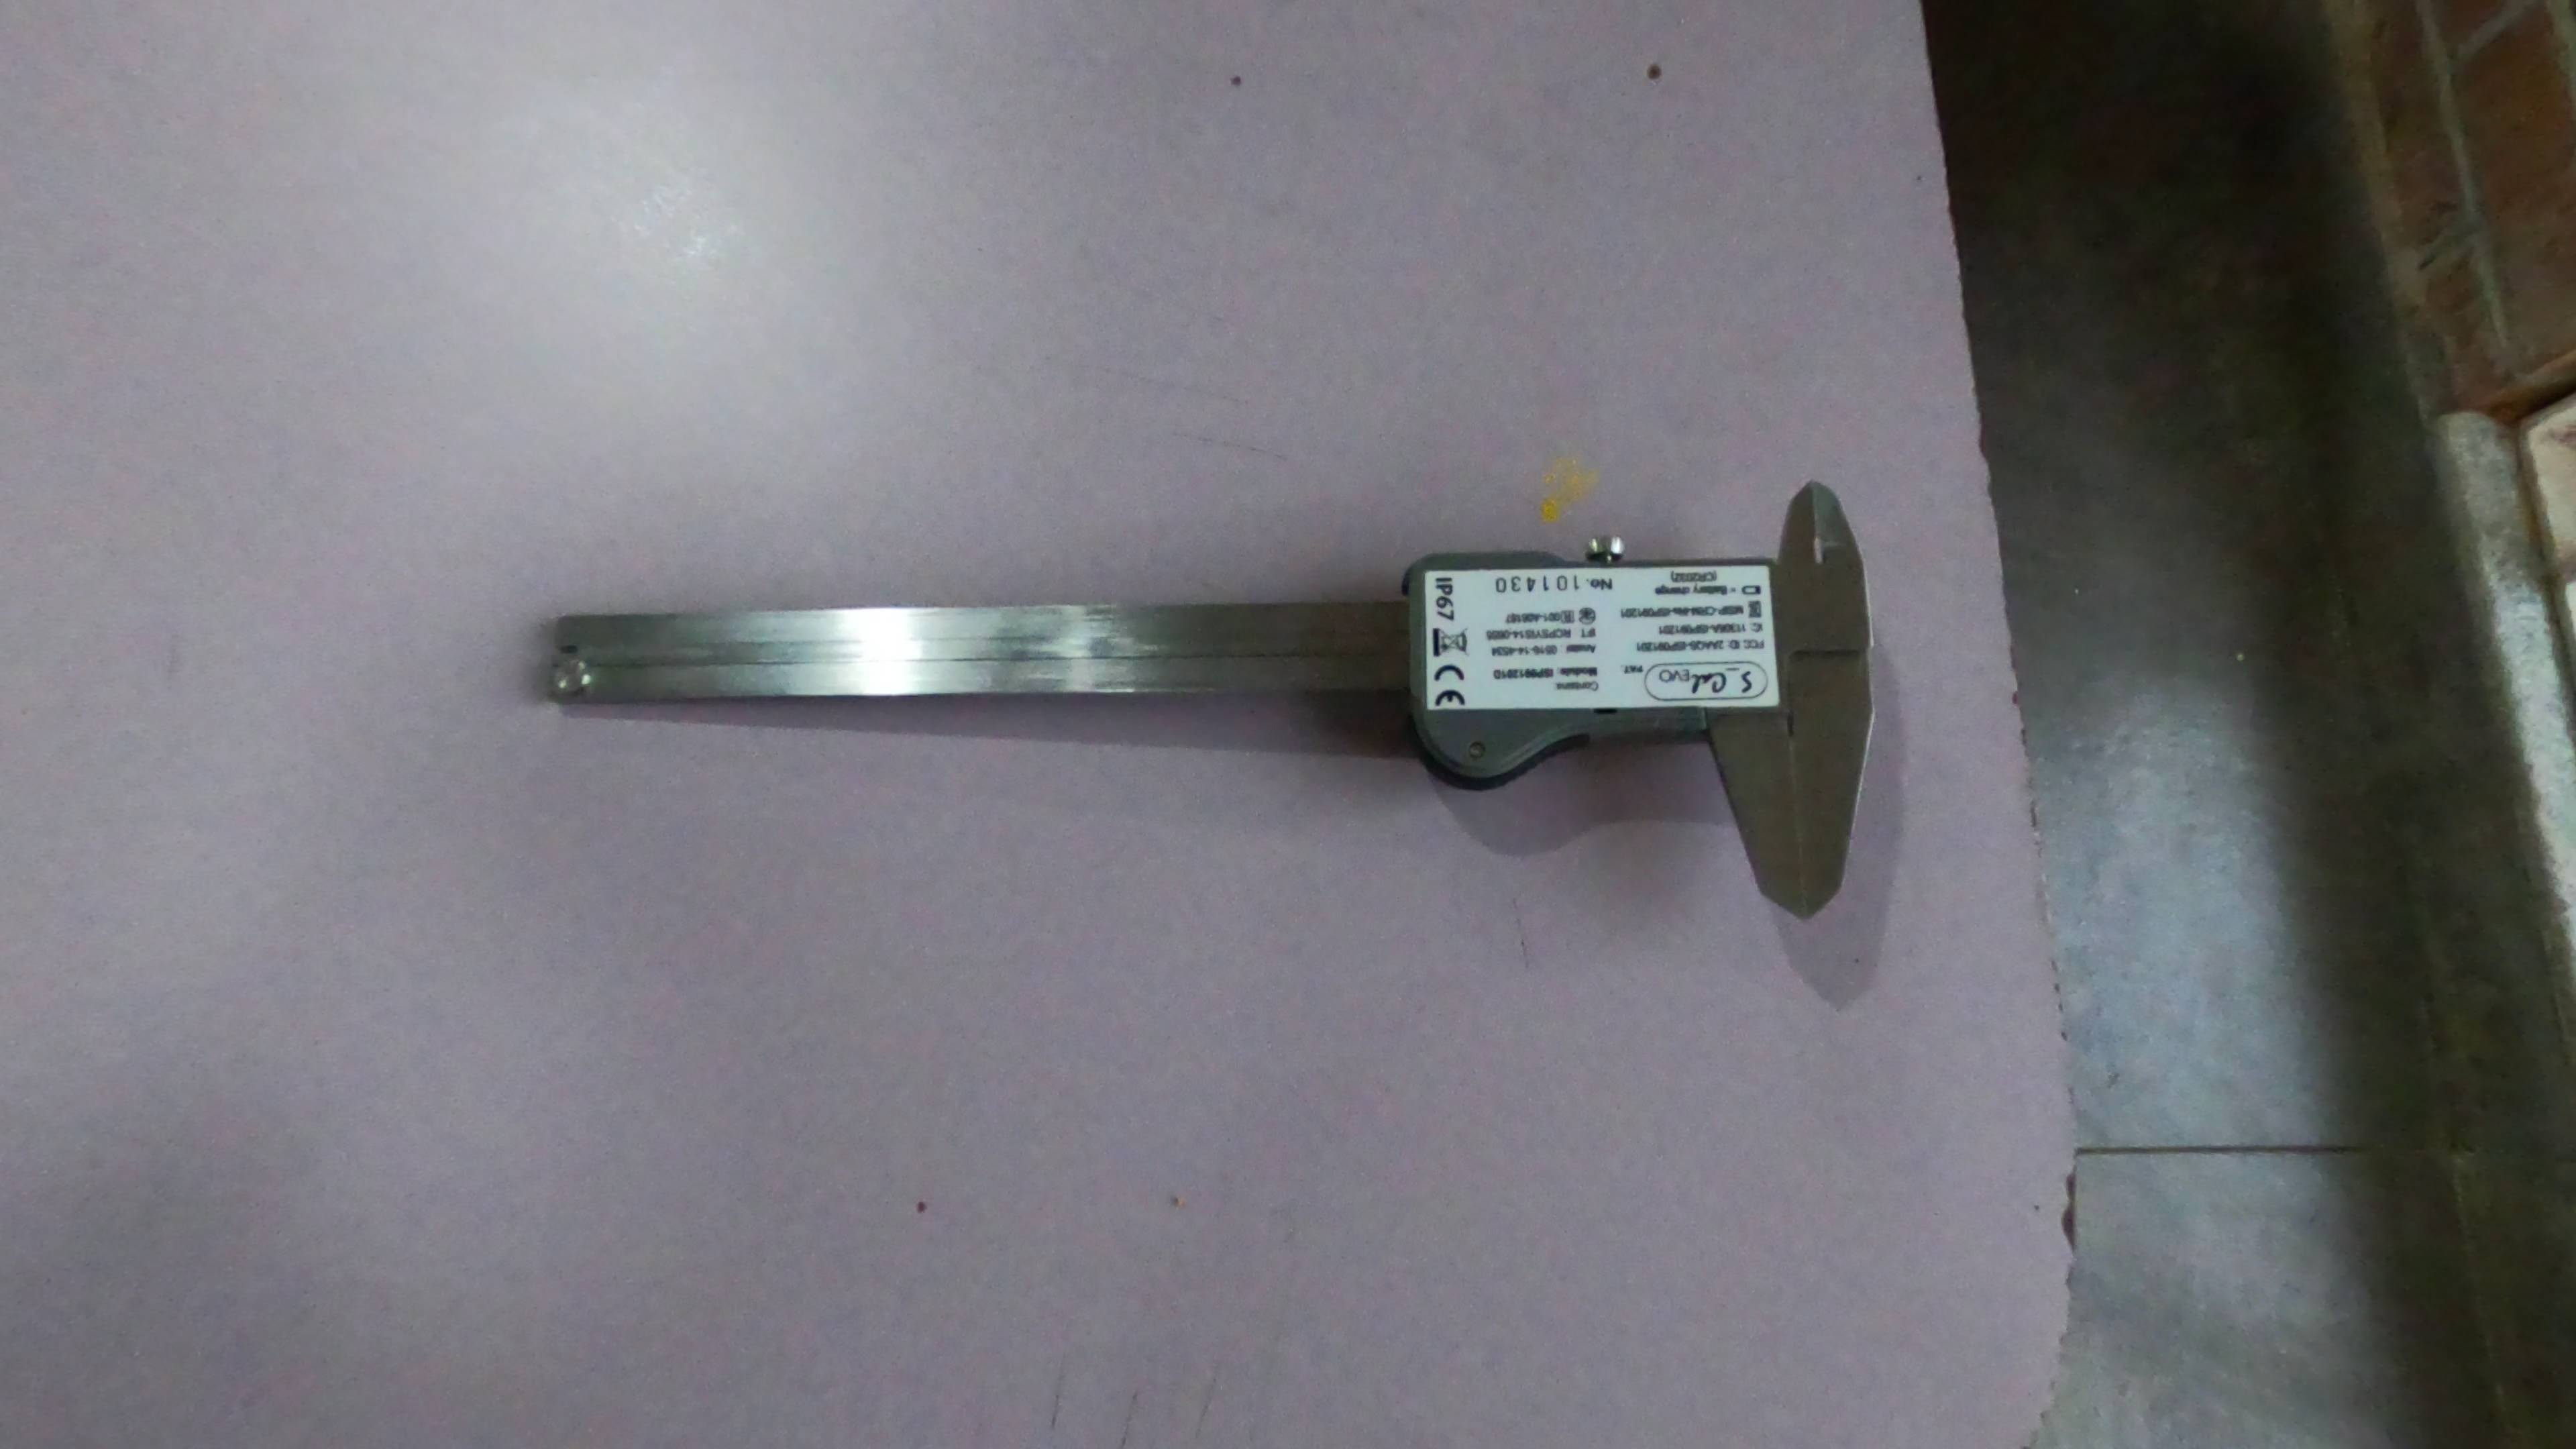vernier_caliper: (540, 474, 1884, 924)
